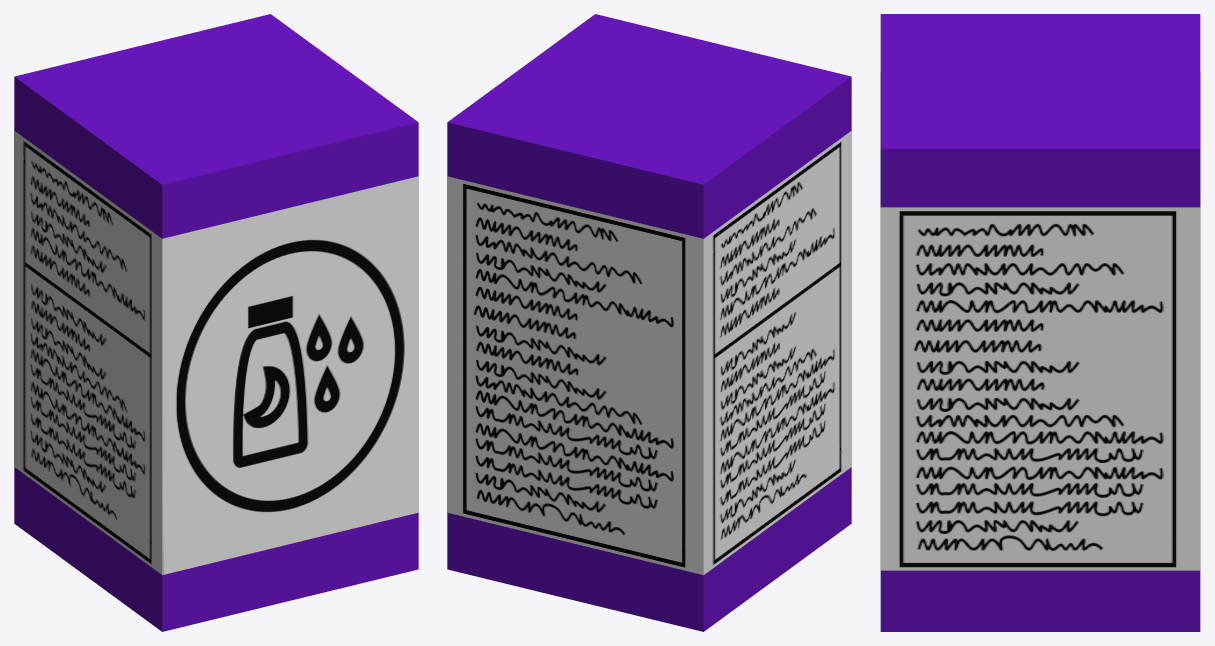
Rendered from sleepJugOTC.fbx.
The picture shows the model from 3 angles, left to right: view 1: azimuth 30°, elevation 25°; view 2: azimuth 150°, elevation 25°; view 3: azimuth 270°, elevation 25°; orthographic projection. The views are drawn at different scales.
Parts seen in each view (by area): view 1: sleepJugLabel, sleepBox; view 2: sleepJugLabel, sleepBox; view 3: sleepJugLabel, sleepBox.
Boxes of the visible parts, x1,y1,x2,y2 form: sleepJugLabel: (14,130,418,574); sleepBox: (14,14,418,631); sleepJugLabel: (447,130,851,575); sleepBox: (447,14,851,631); sleepJugLabel: (880,72,1200,570); sleepBox: (880,14,1200,631).
Size of the model in its own units: 12.01 by 20 by 12.01.
